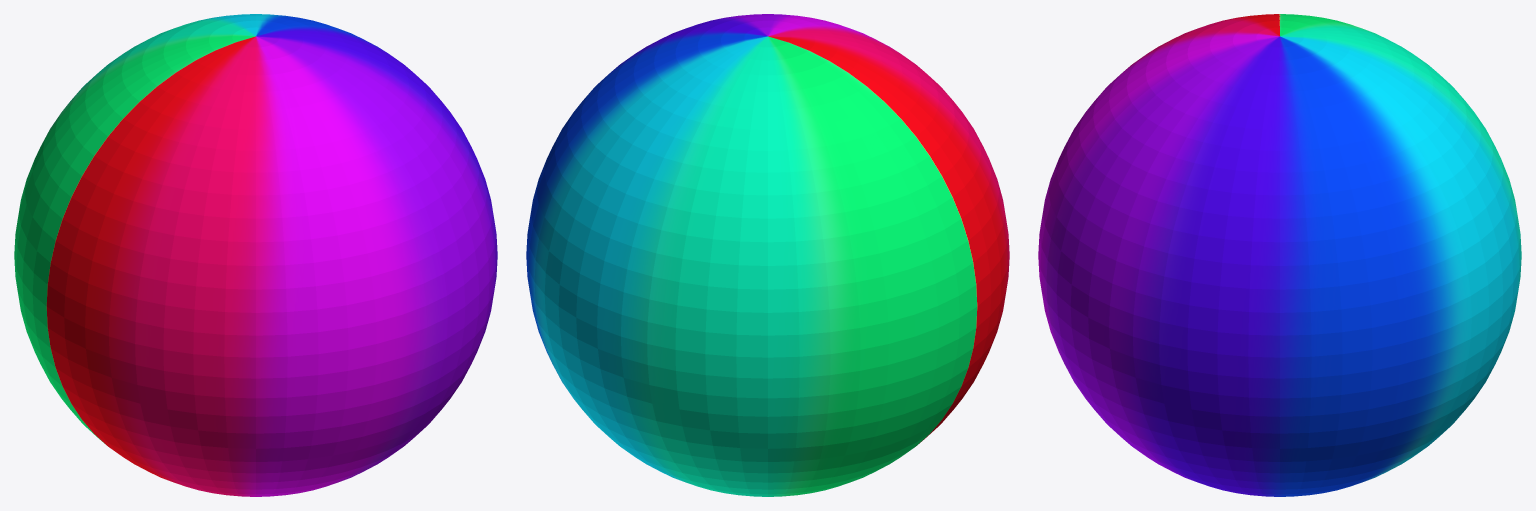
3 views of the same model, side by side, from view 1: azimuth 30°, elevation 25°; view 2: azimuth 150°, elevation 25°; view 3: azimuth 270°, elevation 25° (orthographic).
Parts seen in each view (by area): view 1: Sphère; view 2: Sphère; view 3: Sphère.
Part boxes in pixels (left/top/right/bottom): Sphère: left=14, top=14, right=497, bottom=496; Sphère: left=526, top=14, right=1009, bottom=496; Sphère: left=1038, top=14, right=1521, bottom=496.
Size of the model in its own units: 4.14 by 4.14 by 4.14.
Materials: 1 (1 with a texture image).
